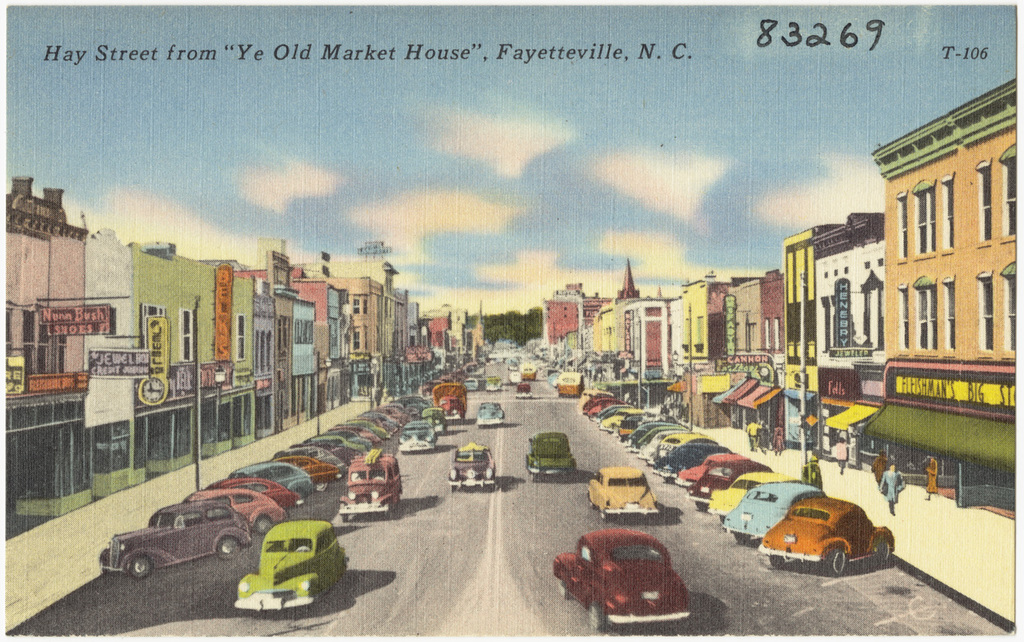Car: (101, 368, 901, 633)
